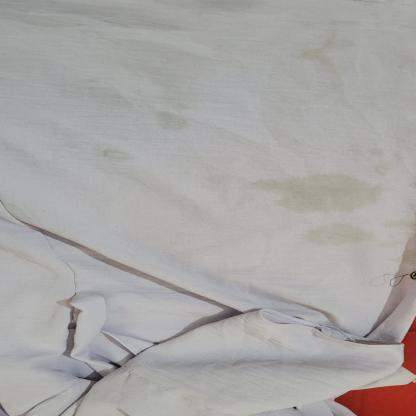spot: (225, 166, 388, 213), (345, 181, 416, 265), (198, 169, 371, 201), (305, 224, 386, 248), (151, 101, 193, 132), (90, 139, 135, 165)
